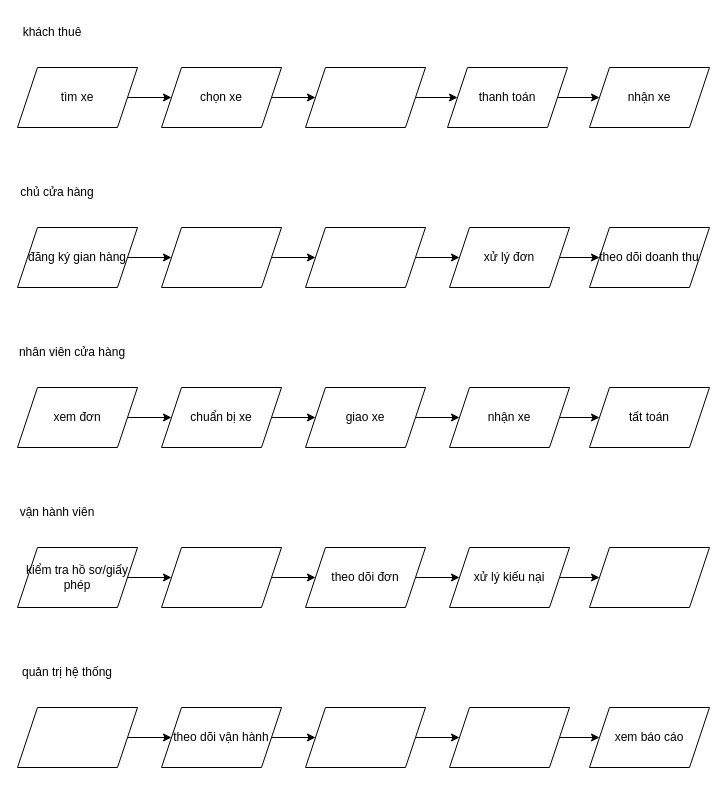
The diagram is 727 pixels wide and 785 high, and some of its shapes have lost their labels. The centre of each missing label's shape, as x and y in pixels:
"cấu hình hệ thống" belongs at point (77, 737).
"duyệt/từ chối" belongs at point (221, 577).
"kiểm soát tham số" belongs at point (365, 737).
"kết luận" belongs at point (649, 577).
"quản lý chính sách" belongs at point (509, 737).
"quản lý lịch" belongs at point (365, 257).
"quản lý xe" belongs at point (221, 257).
"đặt xe" belongs at point (365, 97).
